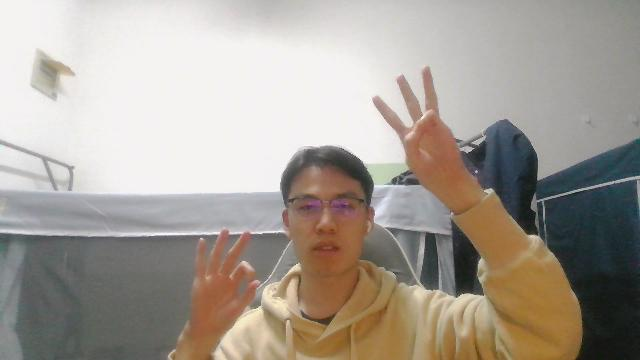ok: (190, 228, 259, 330)
three: (366, 64, 473, 200)
